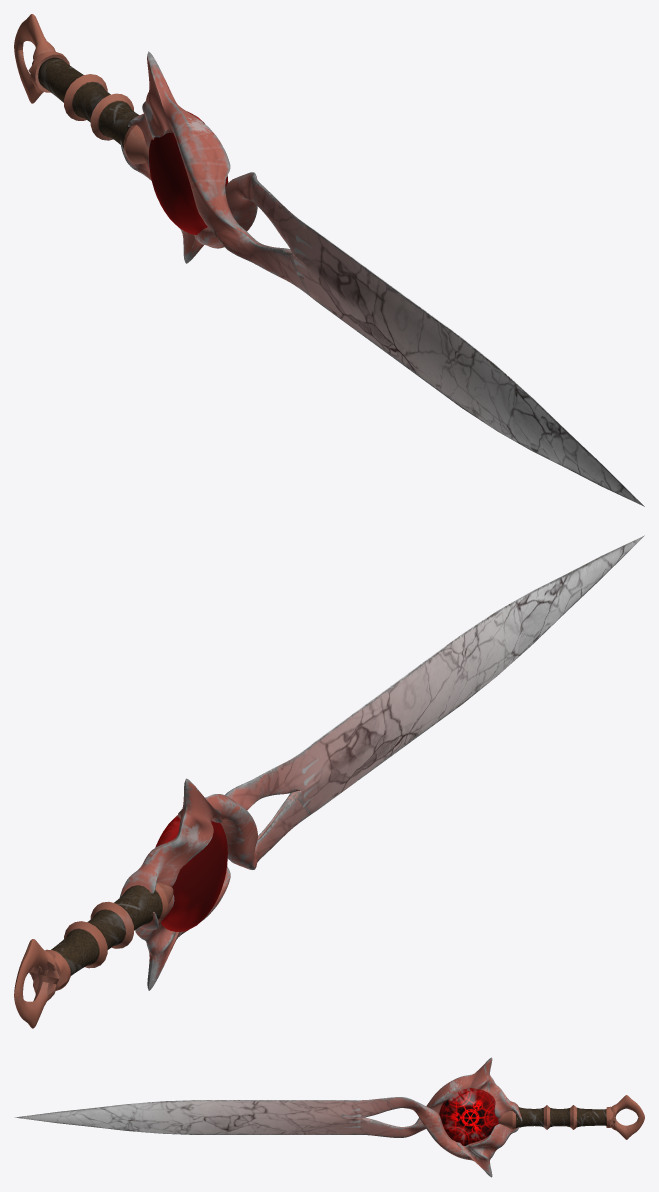
File: hierophant_dagger.glb
The picture shows the model from 3 angles, top to bottom: view 1: azimuth 30°, elevation 25°; view 2: azimuth 150°, elevation 25°; view 3: azimuth 270°, elevation 25°; orthographic projection. The views are drawn at different scales.
Parts seen in each view (by area): view 1: Sphere; view 2: Sphere; view 3: Sphere.
Boxes of the visible parts, x1=… form: Sphere: x1=14, y1=14, x2=644, y2=506; Sphere: x1=14, y1=535, x2=644, y2=1028; Sphere: x1=14, y1=1057, x2=644, y2=1177.
Size of the model in its own units: 0.2661 by 0.8655 by 4.45.
Materials: 4 (4 with a texture image).
